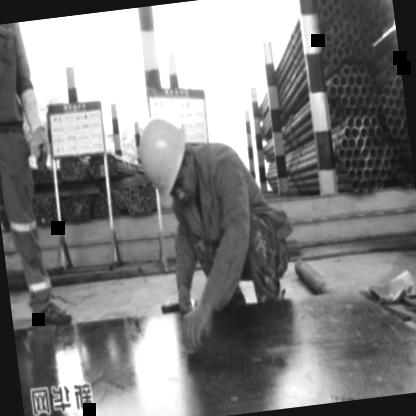helmet: (128, 104, 205, 220)
